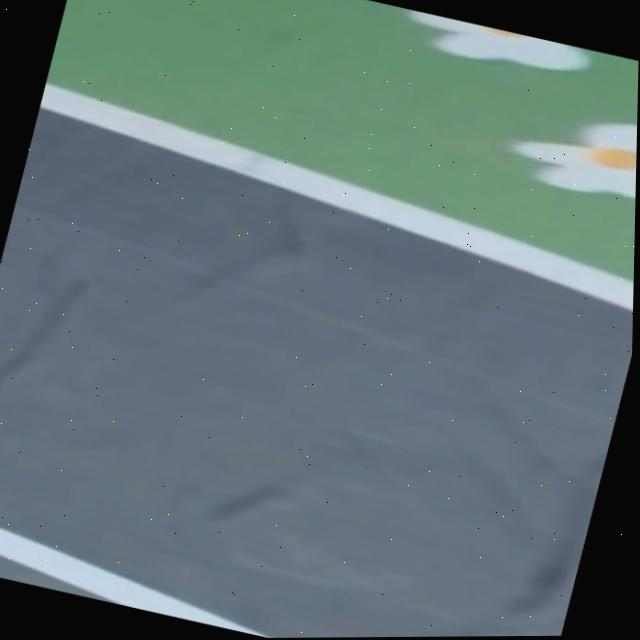center: (0, 529, 266, 637)
right: (38, 84, 634, 311)
